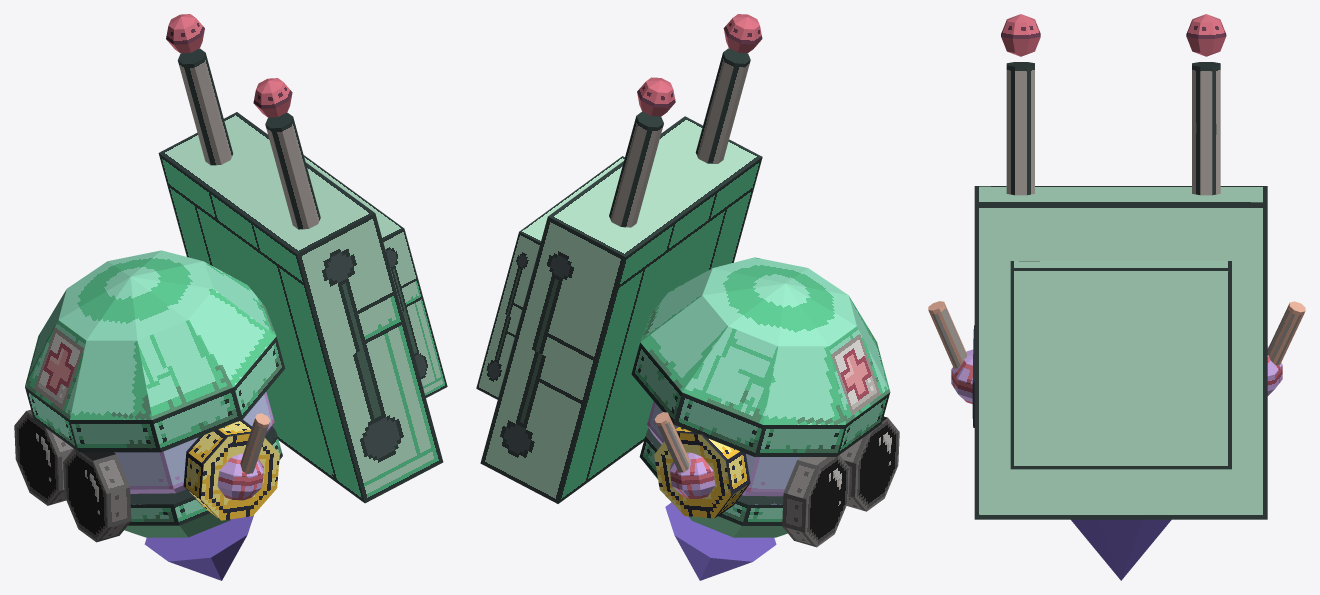
The model's file is HealerBot.gltf.
3 views of the same model, side by side, from view 1: azimuth 30°, elevation 25°; view 2: azimuth 150°, elevation 25°; view 3: azimuth 270°, elevation 25° (orthographic). The views are drawn at different scales.
Visible parts, largest first — view 1: Pack (×2), Body, Antenna (×3), Radio2, Glasses2, Glasses1, cone, AntennaBall (×2), sphere; view 2: Pack (×2), Body, Antenna (×3), Glasses1, Radio1, cone, Glasses2, AntennaBall (×2), sphere; view 3: Pack (×2), Antenna (×4), cone, AntennaBall (×2), sphere.
Boxes of the visible parts, x1,y1,x2,y2 form: Pack (×2): [158, 112, 447, 503]; Body: [25, 250, 285, 537]; Antenna (×3): [177, 48, 320, 474]; Radio2: [183, 419, 279, 520]; Glasses2: [63, 449, 131, 542]; Glasses1: [14, 409, 73, 505]; cone: [144, 515, 253, 580]; AntennaBall (×2): [166, 14, 292, 117]; sphere: [217, 453, 263, 500]; Pack (×2): [476, 116, 762, 503]; Body: [631, 257, 890, 537]; Antenna (×3): [609, 48, 750, 472]; Glasses1: [782, 455, 849, 547]; Radio1: [654, 427, 750, 518]; cone: [665, 502, 776, 580]; Glasses2: [840, 416, 899, 511]; AntennaBall (×2): [637, 14, 762, 116]; sphere: [670, 452, 715, 498]; Pack (×2): [974, 186, 1267, 519]; Antenna (×4): [928, 62, 1305, 368]; cone: [1071, 519, 1171, 580]; AntennaBall (×2): [1001, 14, 1226, 56]; sphere: [951, 349, 973, 403].
Size of the model in its own units: 2.79 by 4.13 by 2.5.
1 material, 1 textured.
